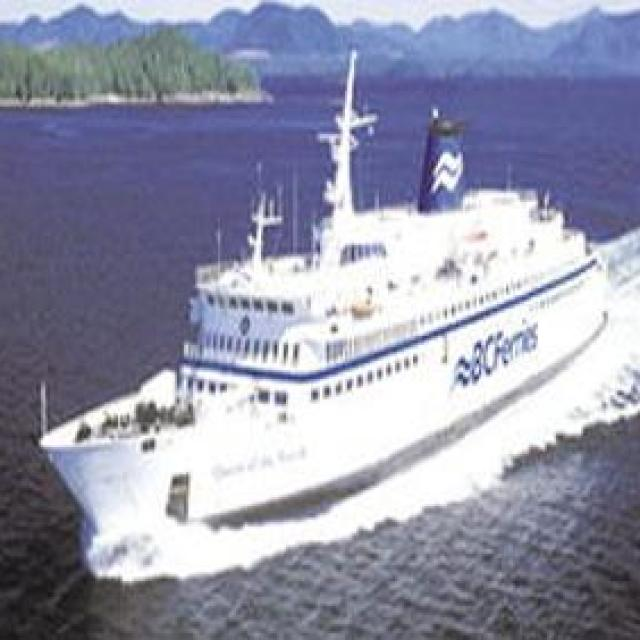navalvessels: (53, 74, 614, 548)
